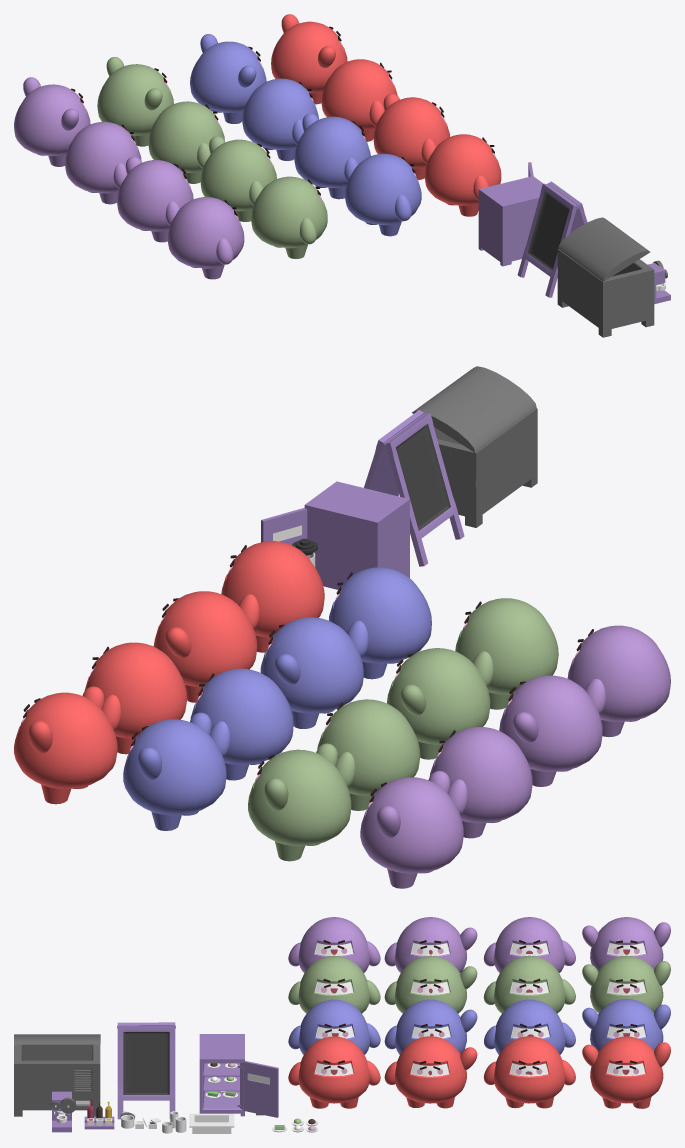
Rendered from exportation_finale_kts.fbx.
3 views of the same model, one above another, from view 1: azimuth 30°, elevation 25°; view 2: azimuth 150°, elevation 25°; view 3: azimuth 270°, elevation 25° (orthographic). The views are drawn at different scales.
Visible parts, largest first — view 1: ice_machine, client_green_neutral, client_purple_neutral, client_blue_neutral, client_blue_happy, client_purple_happy, client_blue_ordering, client_purple_ordering, client_red_neutral, client_green_happy, snacks_fridge, client_green_ordering (+9 smaller); view 2: client_purple_happy, client_red_happy, client_green_happy, client_blue_happy, snacks_fridge, client_blue_ordering, client_purple_ordering, client_blue_neutral, client_purple_neutral, client_green_ordering, client_purple_mad, client_blue_mad (+10 smaller); view 3: ice_machine, pasted__pCube1, client_red_happy, client_red_ordering, client_red_neutral, client_red_mad, client_green_happy, client_green_ordering, client_green_neutral, client_green_mad, snacks_fridge, client_purple_happy (+12 smaller).
Boxes of the visible parts, left/top/right/bottom form: ice_machine: left=557, top=249, right=654, bottom=337; client_green_neutral: left=251, top=176, right=327, bottom=258; client_purple_neutral: left=167, top=197, right=244, bottom=279; client_blue_neutral: left=344, top=153, right=421, bottom=236; client_blue_happy: left=190, top=34, right=266, bottom=123; client_purple_happy: left=14, top=77, right=90, bottom=166; client_blue_ordering: left=294, top=113, right=370, bottom=199; client_purple_ordering: left=117, top=156, right=193, bottom=242; client_red_neutral: left=424, top=134, right=501, bottom=216; client_green_happy: left=97, top=57, right=173, bottom=146; snacks_fridge: left=478, top=176, right=542, bottom=266; client_green_ordering: left=200, top=136, right=276, bottom=221; client_purple_happy: left=360, top=771, right=463, bottom=888; client_red_happy: left=14, top=686, right=117, bottom=804; client_green_happy: left=248, top=743, right=351, bottom=861; client_blue_happy: left=123, top=712, right=226, bottom=830; snacks_fridge: left=304, top=481, right=409, bottom=589; client_blue_ordering: left=260, top=617, right=363, bottom=728; client_purple_ordering: left=499, top=675, right=602, bottom=786; client_blue_neutral: left=329, top=567, right=431, bottom=679; client_purple_neutral: left=567, top=625, right=670, bottom=736; client_green_ordering: left=387, top=648, right=490, bottom=759; client_purple_mad: left=429, top=727, right=532, bottom=838; client_blue_mad: left=190, top=668, right=293, bottom=780; ice_machine: left=14, top=1044, right=100, bottom=1116; pasted__pCube1: left=117, top=1025, right=175, bottom=1119; client_red_happy: left=582, top=1036, right=670, bottom=1108; client_red_ordering: left=384, top=1036, right=477, bottom=1108; client_red_neutral: left=288, top=1036, right=380, bottom=1108; client_red_mad: left=483, top=1036, right=575, bottom=1108; client_green_happy: left=582, top=955, right=670, bottom=1013; client_green_ordering: left=384, top=955, right=477, bottom=1013; client_green_neutral: left=288, top=955, right=380, bottom=1013; client_green_mad: left=483, top=955, right=575, bottom=1013; snacks_fridge: left=199, top=1034, right=244, bottom=1116; client_purple_happy: left=582, top=917, right=670, bottom=970.
Size of the model in its own units: 12.6 by 2.95 by 21.25.
